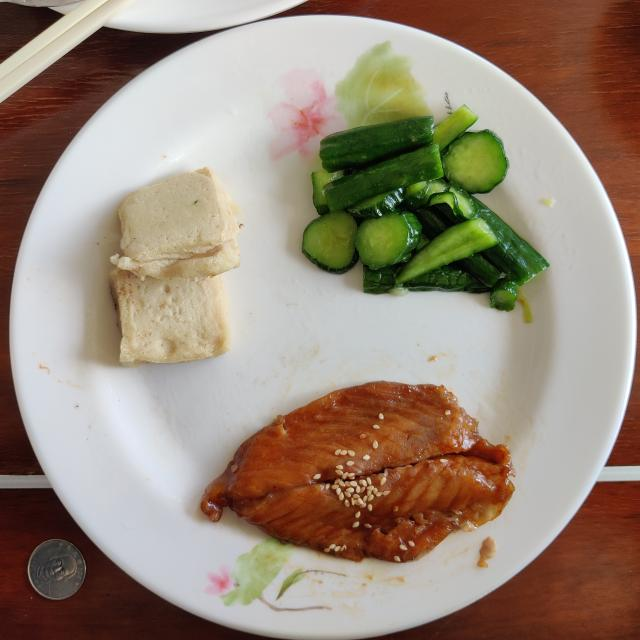Kabayaki sea bream fillet: (201, 381, 514, 562)
coin: (28, 539, 86, 600)
creamy tofu -without sauce-: (110, 168, 240, 366)
cucumber: (302, 105, 549, 311)
